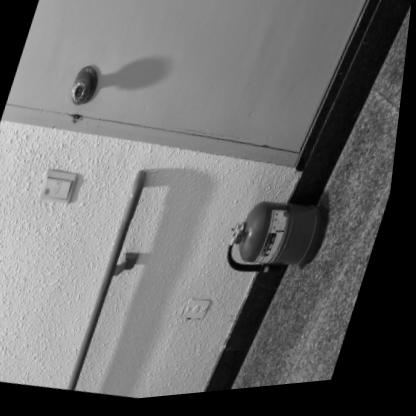FE: (225, 191, 341, 292)
